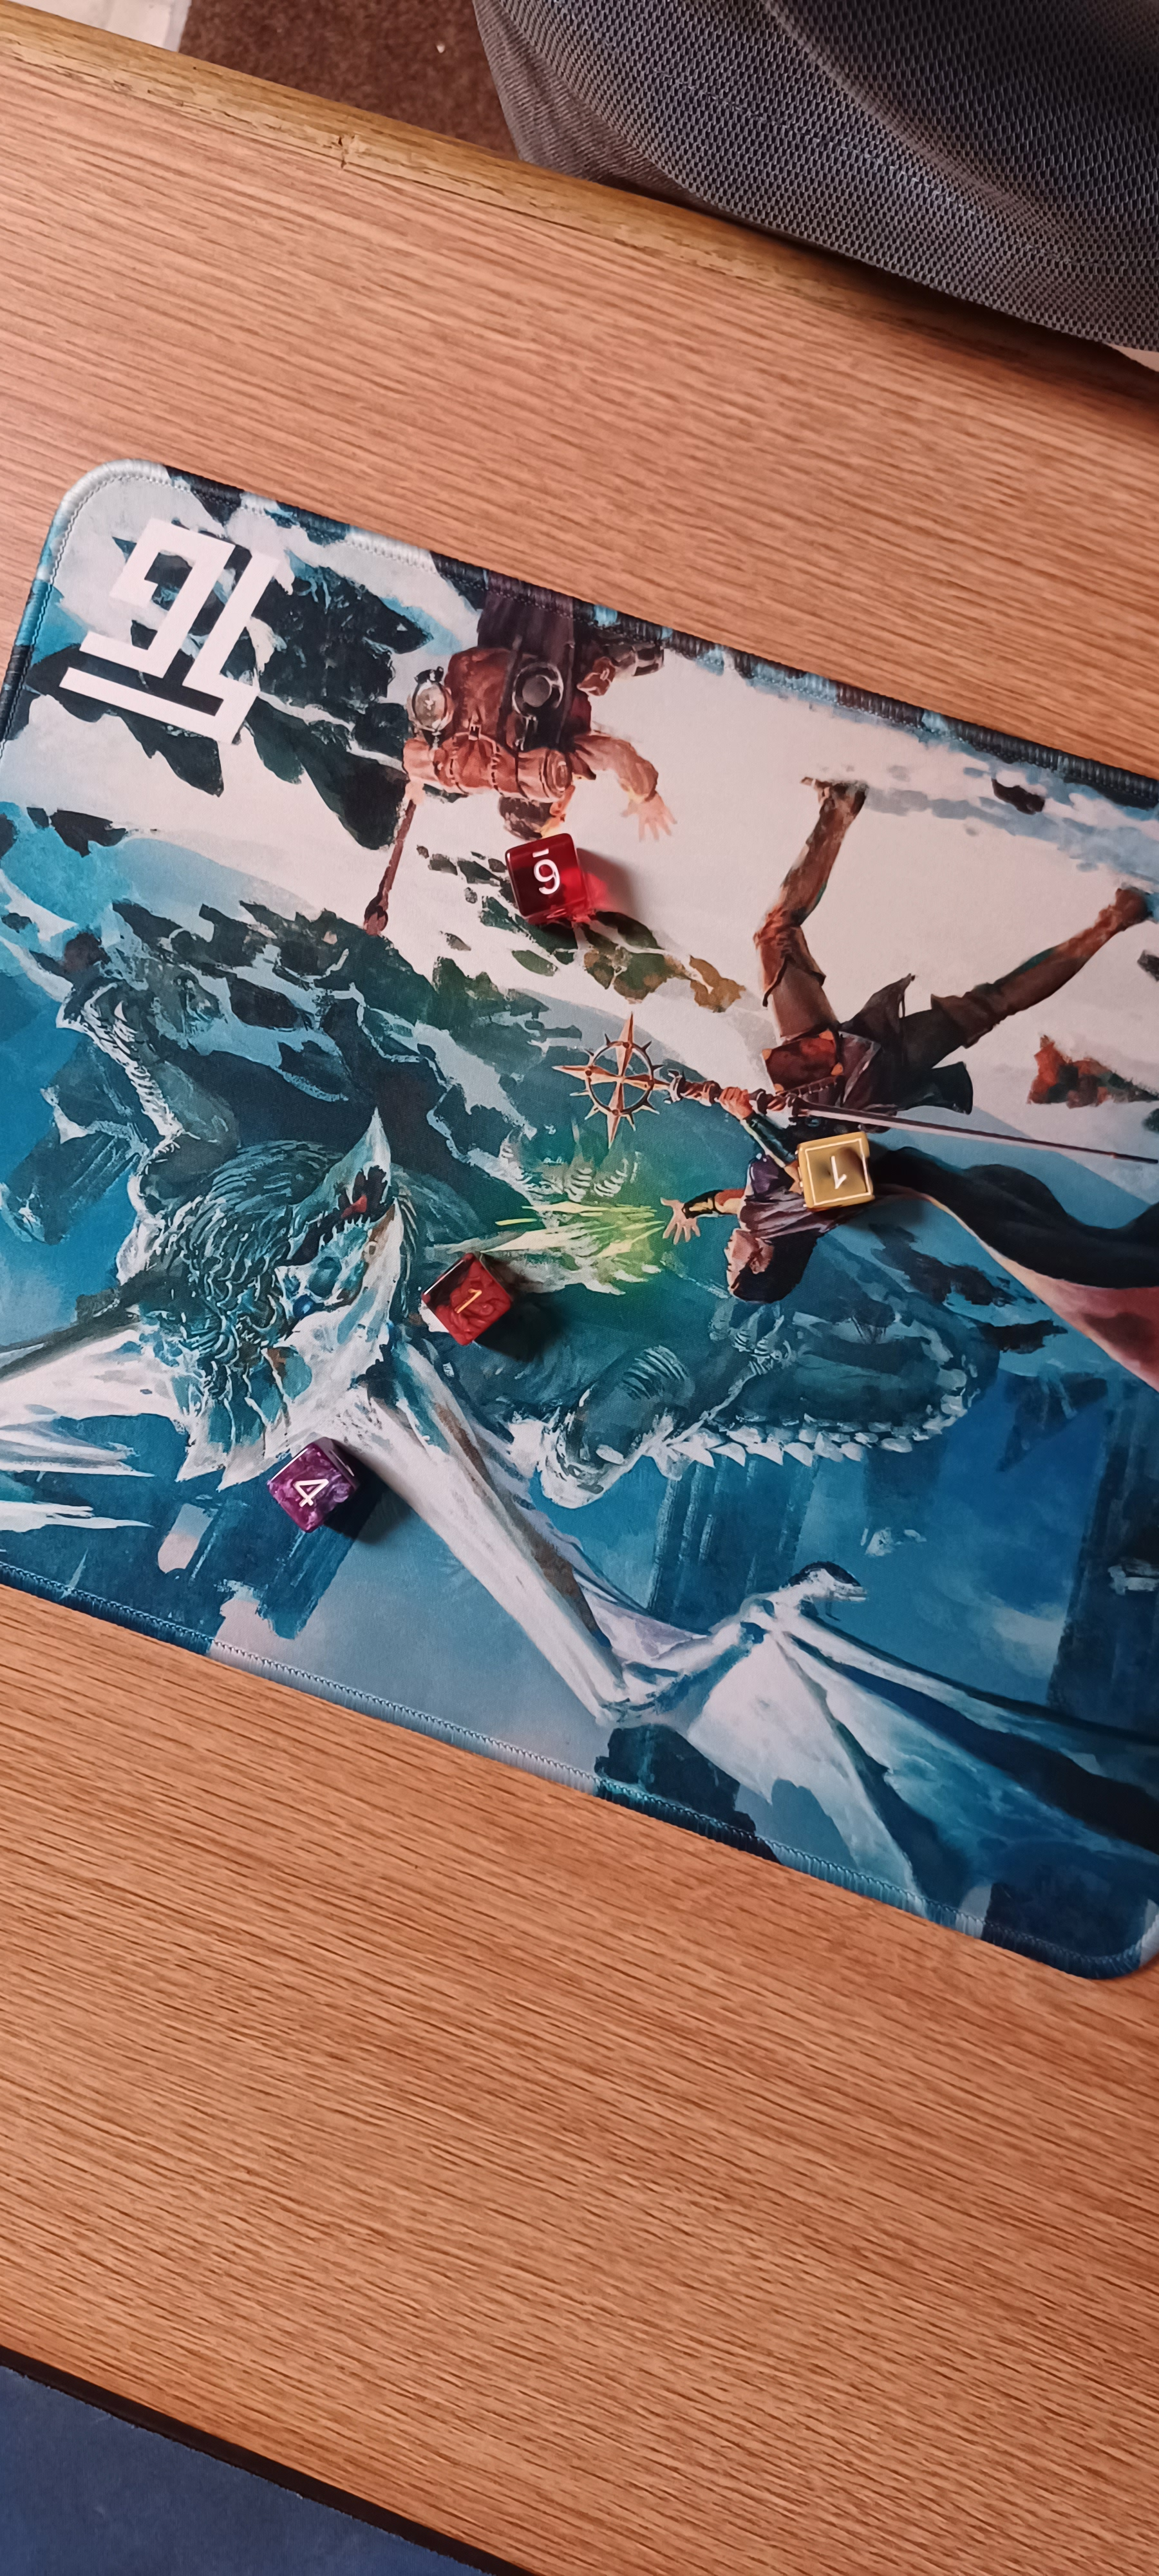four: (225, 1416, 399, 1559)
one: (744, 1114, 905, 1229), (401, 1245, 534, 1375)
six: (483, 816, 602, 931)
